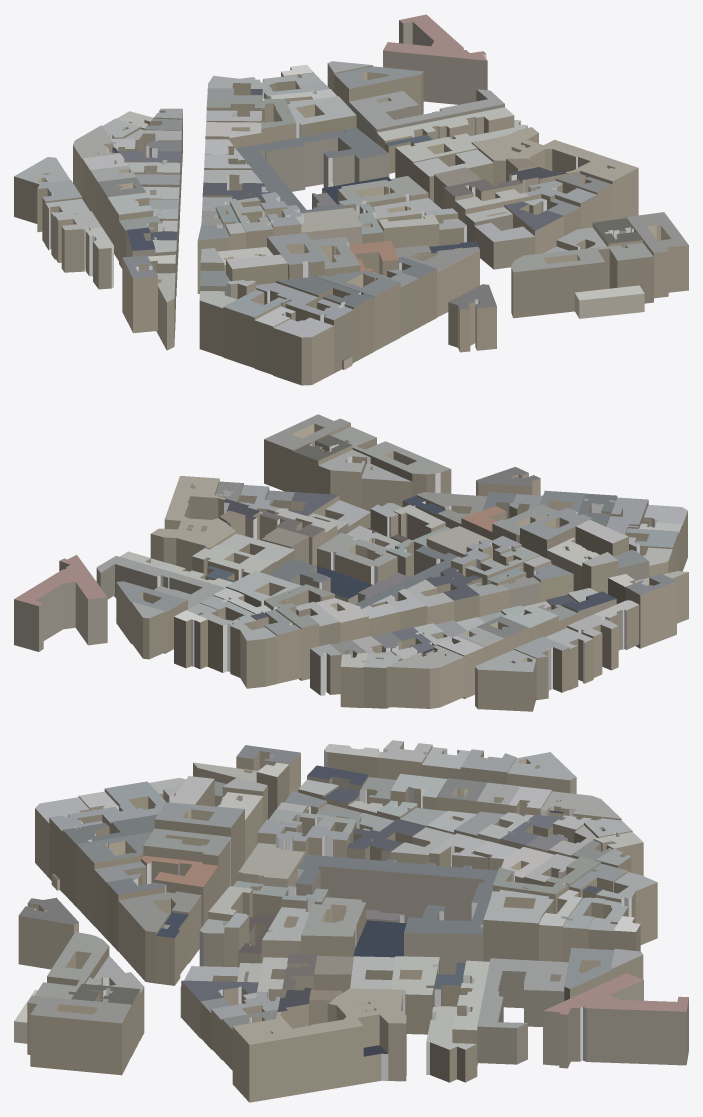
3 views of the same model, one above another, from view 1: azimuth 30°, elevation 25°; view 2: azimuth 150°, elevation 25°; view 3: azimuth 270°, elevation 25° (orthographic). The views are drawn at different scales.
Visible parts, largest first — view 1: tuile; view 2: tuile; view 3: tuile.
Boxes of the visible parts, x1=… form: tuile: x1=14, y1=14, x2=688, y2=385; tuile: x1=14, y1=414, x2=688, y2=711; tuile: x1=14, y1=740, x2=688, y2=1102.
Bounding box in the file's own units: 279 × 39.16 × 279.
